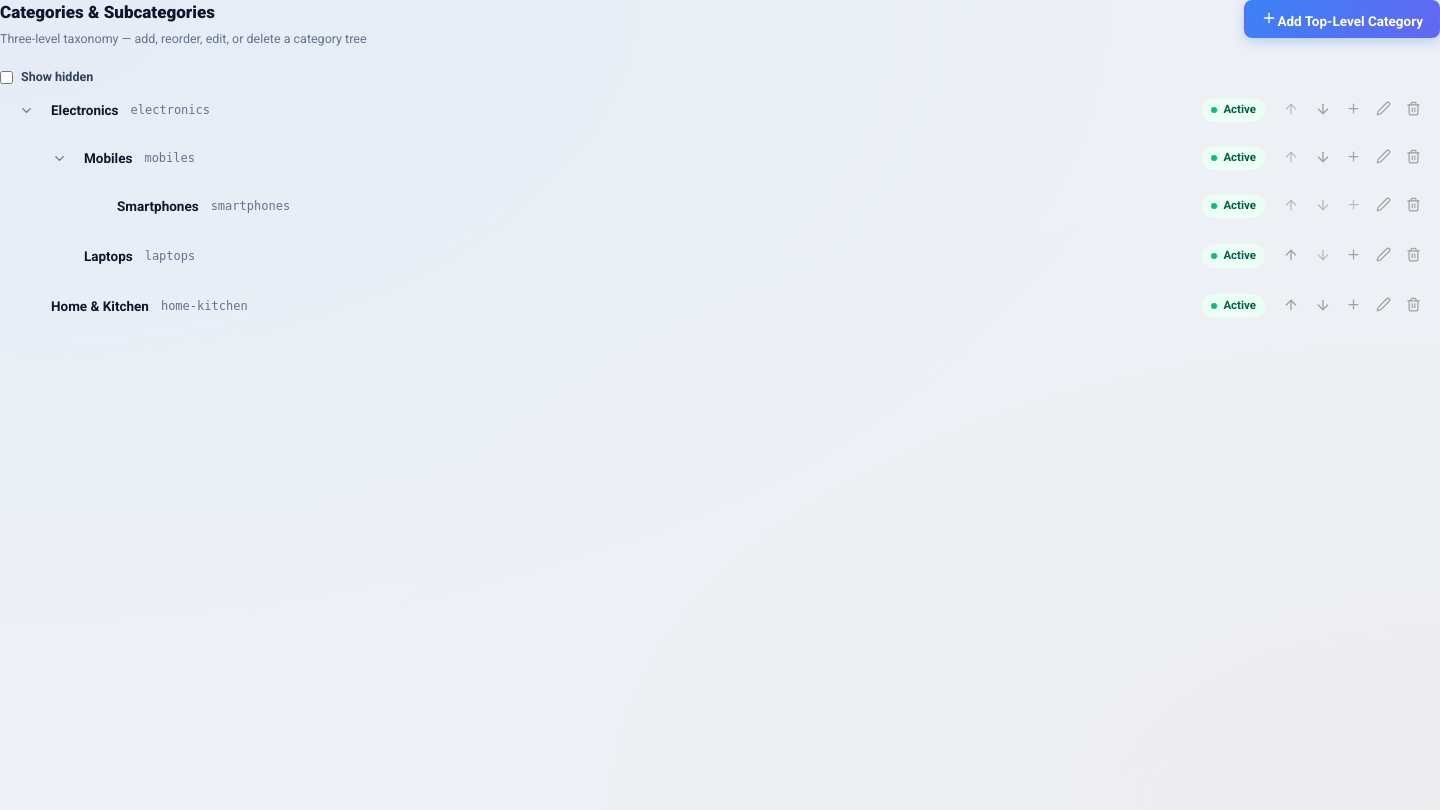
Test: CategoriesTreeEditor › opens an add-subcategory form whose parent is the clicked node
Expected: the text "Electronics" is shown, [51,100,118,120]
Click the button named "Add subcategory to Electronics": [1353, 110] box [1339,96,1367,124]
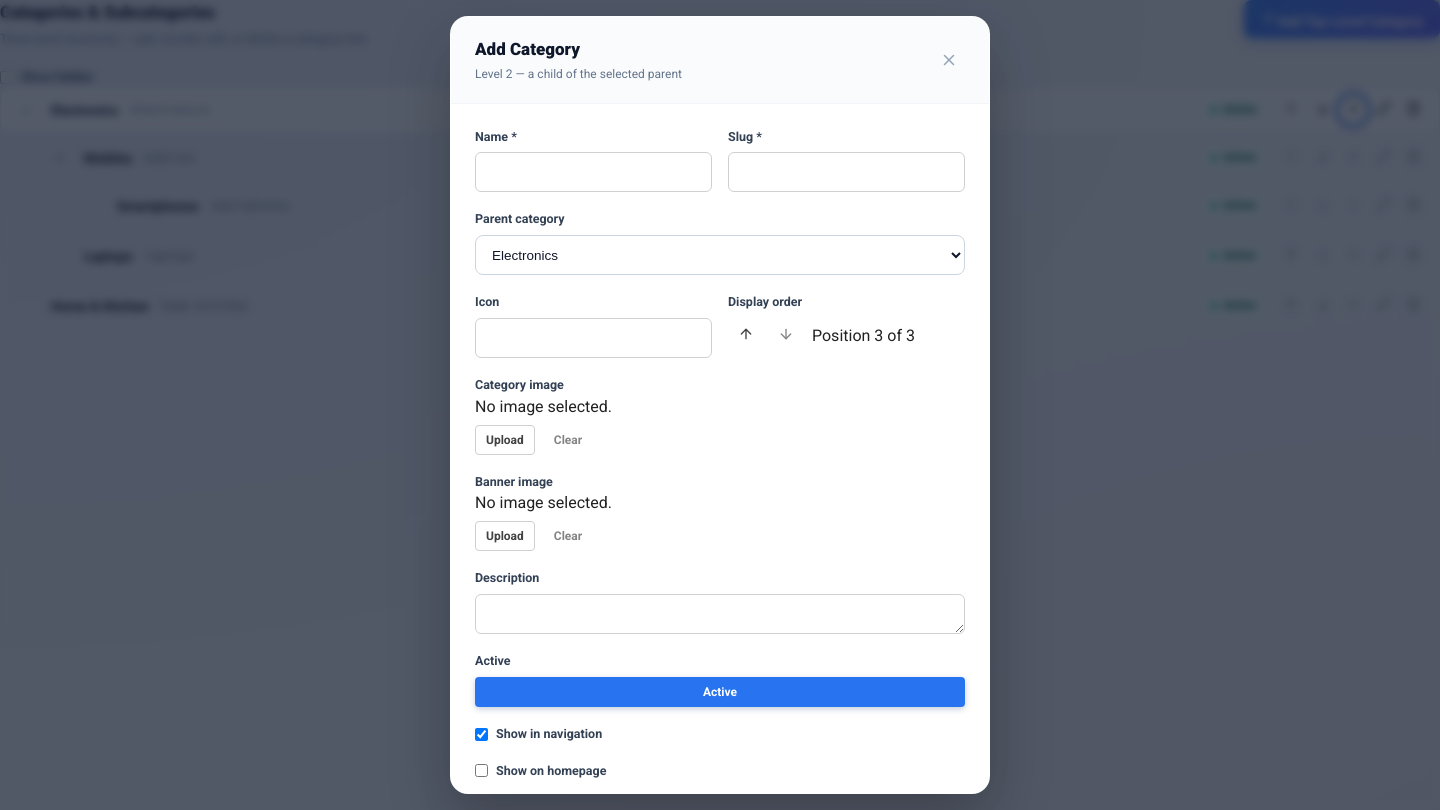
Expected: the dropdown labelled "Parent category" shows "Electronics", [475,235,965,275]
Expected: the text "Level 2 — a child of the selected parent" is shown, [475,64,682,82]
